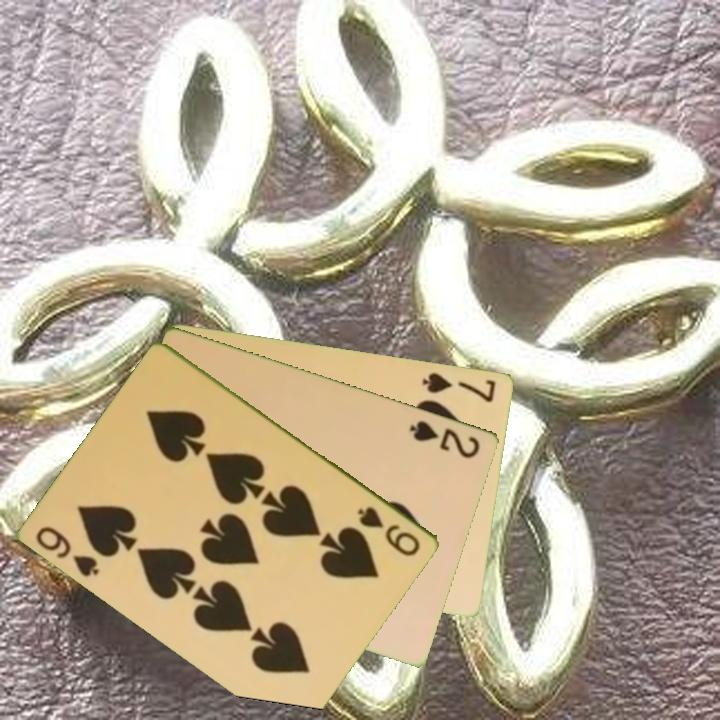2s: (406, 416, 483, 461)
7s: (419, 368, 500, 405)
9s: (32, 522, 103, 580), (354, 502, 424, 560)
